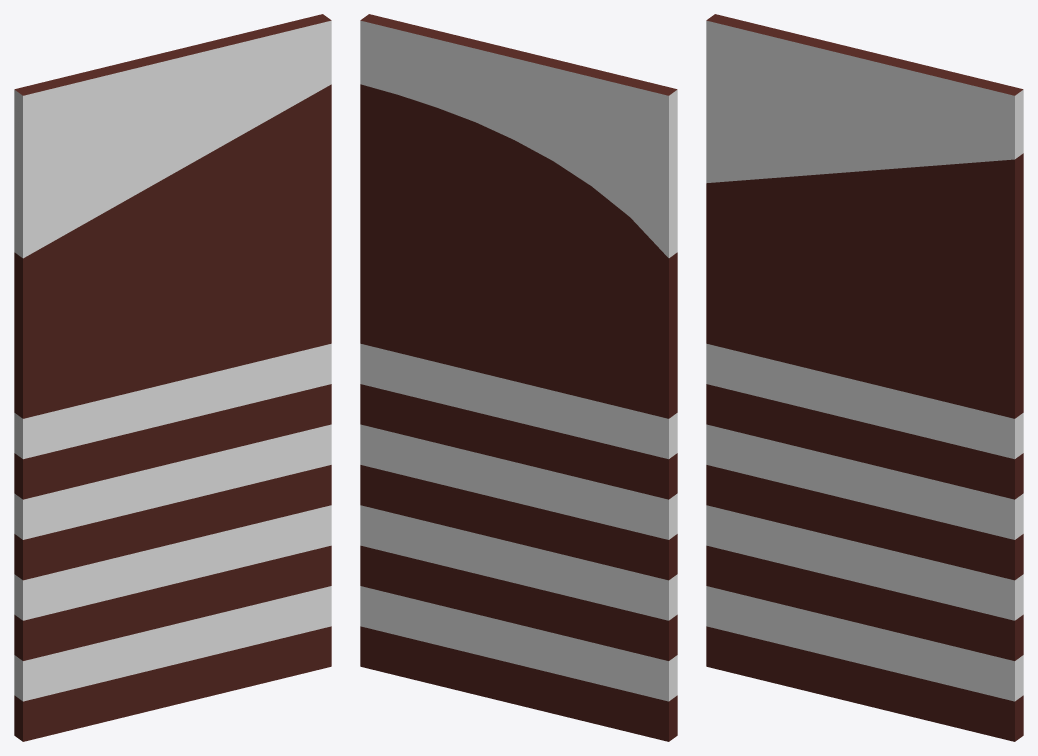
The model's file is room_number_sign.dae.
3 renders of one model, left to right at view 1: azimuth 30°, elevation 25°; view 2: azimuth 150°, elevation 25°; view 3: azimuth 330°, elevation 25°, orthographic.
Parts seen in each view (by area): view 1: Cube; view 2: Cube; view 3: Cube.
Boxes of the visible parts, x1,y1,x2,y2 form: Cube: (14,14,331,741); Cube: (360,14,677,741); Cube: (706,14,1023,741).
Size of the model in its own units: 0.15 by 0.0075 by 0.3.
